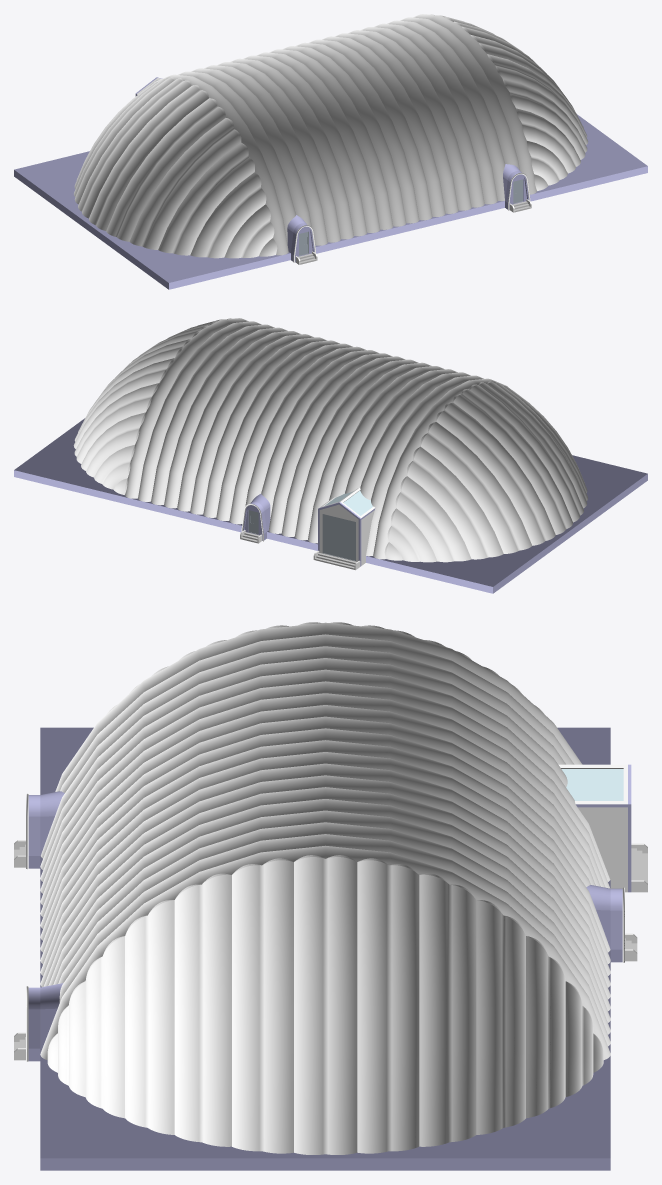
Rendered from airdome.glb.
The picture shows the model from 3 angles, top to bottom: view 1: azimuth 30°, elevation 25°; view 2: azimuth 150°, elevation 25°; view 3: azimuth 270°, elevation 25°; orthographic projection. The views are drawn at different scales.
Visible parts, largest first — view 1: group_5, 组件_4 (×2), group_0, 组件_6 (×2); view 2: group_5, 组件_4 (×2), group_0, 组件_7, group_4, 组件_6, group_3; view 3: group_5, 组件_4, group_0, 组件_7, 组件_6 (×3), group_6, group_3.
Boxes of the visible parts, <box> form: group_5: <box>154,14,536,255</box>; 组件_4 (×2): <box>74,15,588,258</box>; group_0: <box>14,114,647,289</box>; 组件_6 (×2): <box>287,164,528,262</box>; group_5: <box>125,318,507,559</box>; 组件_4 (×2): <box>73,319,587,562</box>; group_0: <box>14,418,647,593</box>; 组件_7: <box>318,487,375,566</box>; group_4: <box>322,514,355,561</box>; 组件_6: <box>243,494,270,540</box>; group_3: <box>313,550,360,570</box>; group_5: <box>40,622,610,1059</box>; 组件_4: <box>47,857,603,1154</box>; group_0: <box>40,727,610,1170</box>; 组件_7: <box>558,764,631,892</box>; 组件_6 (×3): <box>28,791,622,1061</box>; group_6: <box>47,855,603,1053</box>; group_3: <box>631,843,647,892</box>.
Bounding box in the file's own units: 2165 × 515 × 1348.
